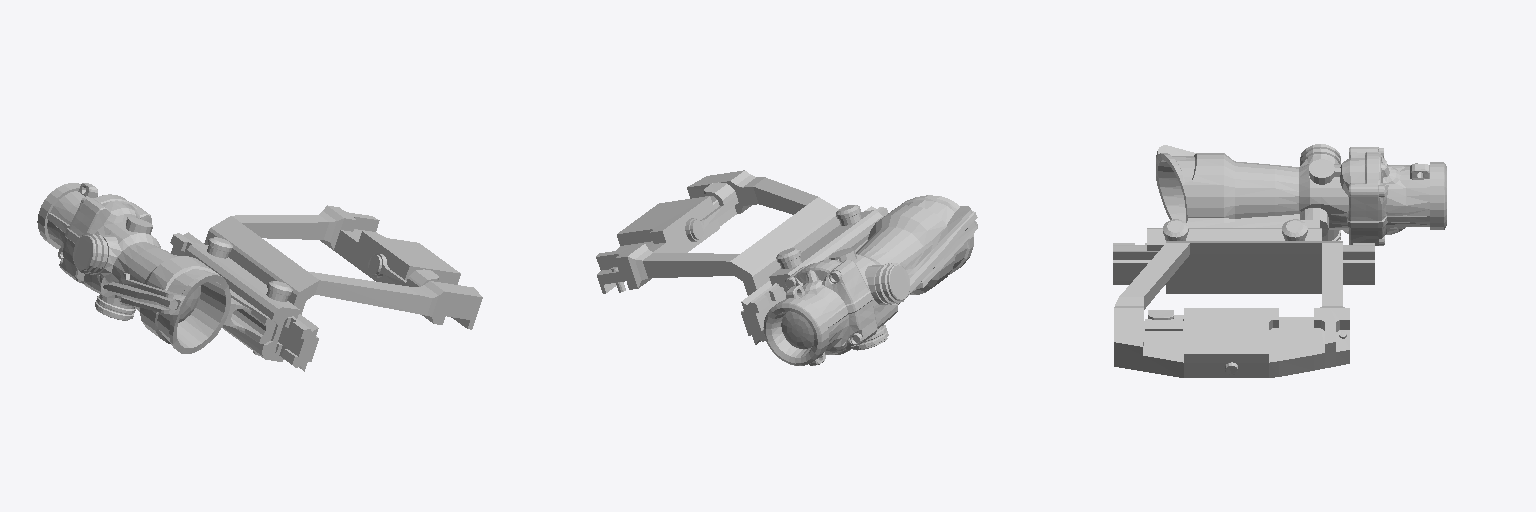
The model's file is ScopePickUp.obj.
3 views of the same model, side by side, from view 1: azimuth 30°, elevation 25°; view 2: azimuth 150°, elevation 25°; view 3: azimuth 270°, elevation 25° (orthographic).
Parts seen in each view (by area): view 1: ScopeACOG, ScopeMount; view 2: ScopeACOG, ScopeMount, ScopeGlassFront; view 3: ScopeMount, ScopeACOG.
Part boxes in pixels (x1,y1,x2,y2): ScopeACOG: (37,183,299,361); ScopeMount: (170,205,482,371); ScopeACOG: (763,195,977,365); ScopeMount: (596,170,887,344); ScopeGlassFront: (781,311,814,349); ScopeMount: (1113,241,1374,377); ScopeACOG: (1147,144,1446,250).
Size of the model in its own units: 0.1373 by 0.0422 by 0.1256.